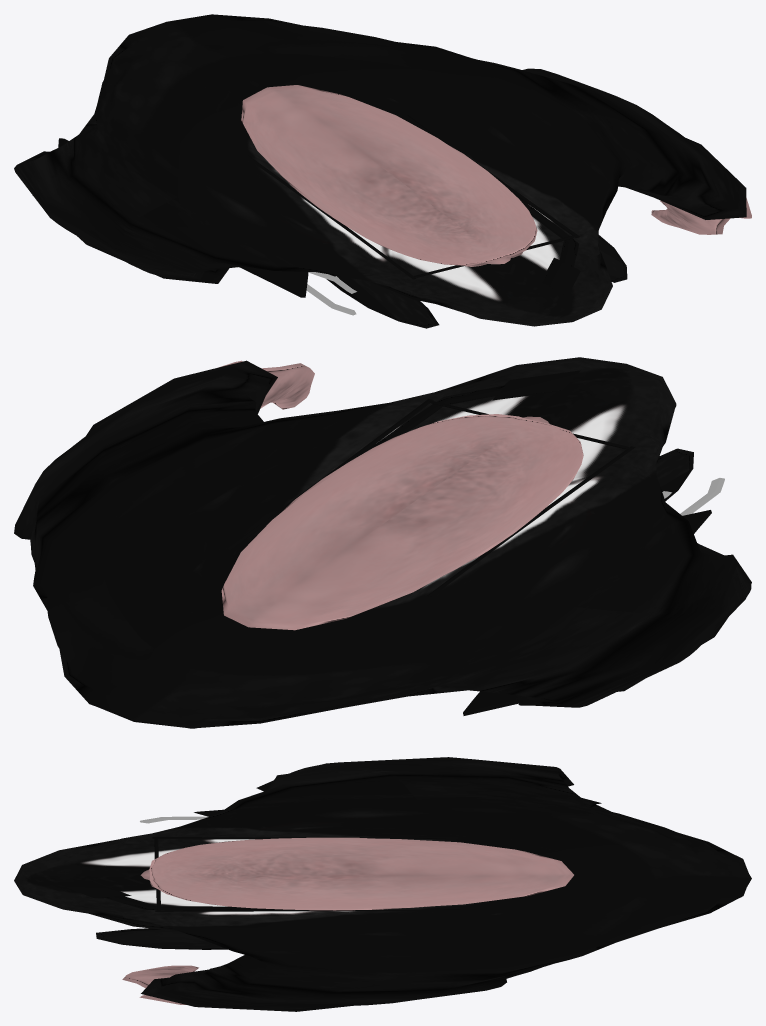
The model's file is ExportGuardSquish.fbx.
The picture shows the model from 3 angles, top to bottom: view 1: azimuth 30°, elevation 25°; view 2: azimuth 150°, elevation 25°; view 3: azimuth 270°, elevation 25°; orthographic projection. The views are drawn at different scales.
Visible parts, largest first — view 1: polySurface7; view 2: polySurface7; view 3: polySurface7.
Part boxes in pixels (x1,y1,x2,y2): polySurface7: [14, 14, 751, 328]; polySurface7: [14, 357, 751, 728]; polySurface7: [14, 757, 751, 1011].
Bounding box in the file's own units: 113 × 4.69 × 140.
